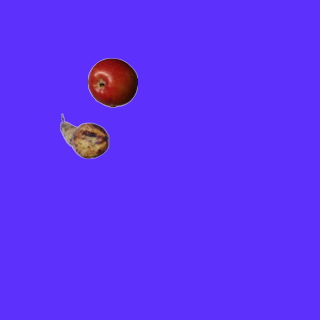Apple Braeburn: (87, 57, 137, 107)
Pear Abate: (59, 111, 109, 161)
